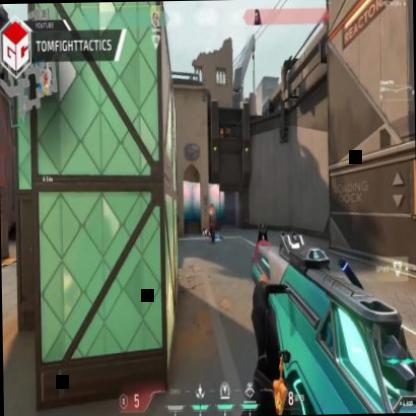enemy: (208, 203, 216, 244)
enemy_head: (210, 203, 214, 210)
